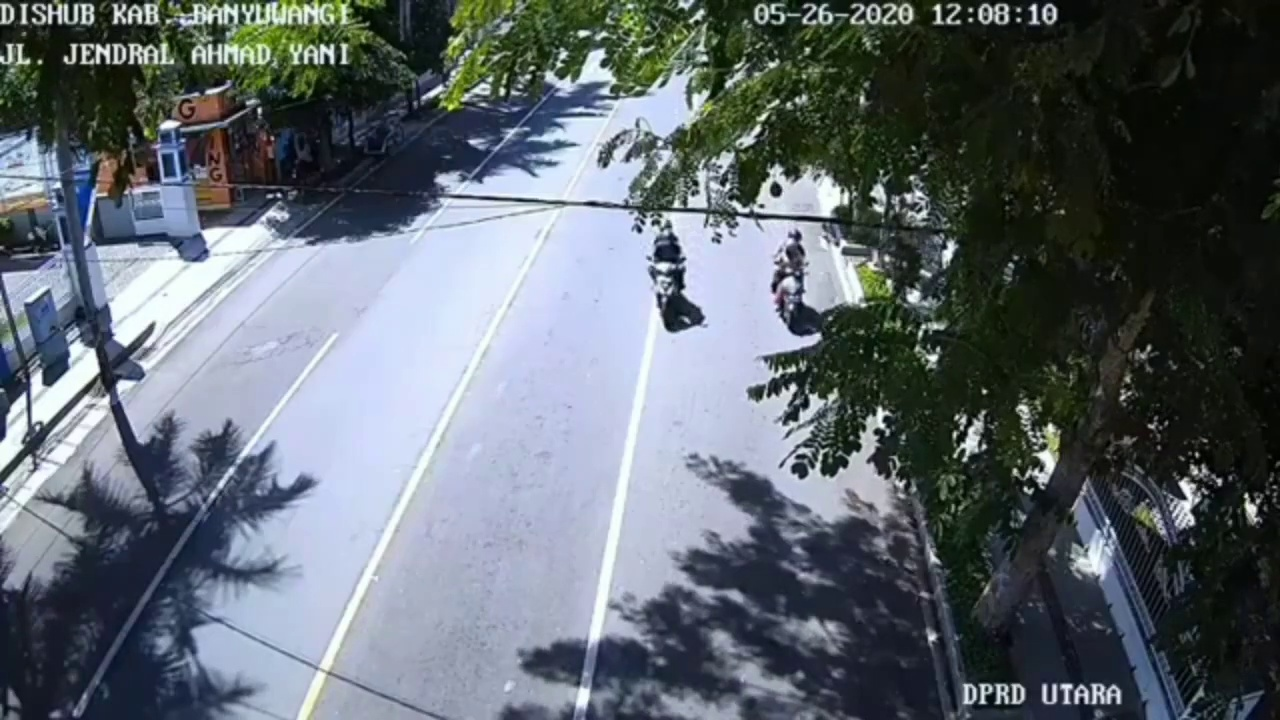motorbike: (646, 221, 693, 337), (773, 232, 819, 336)
